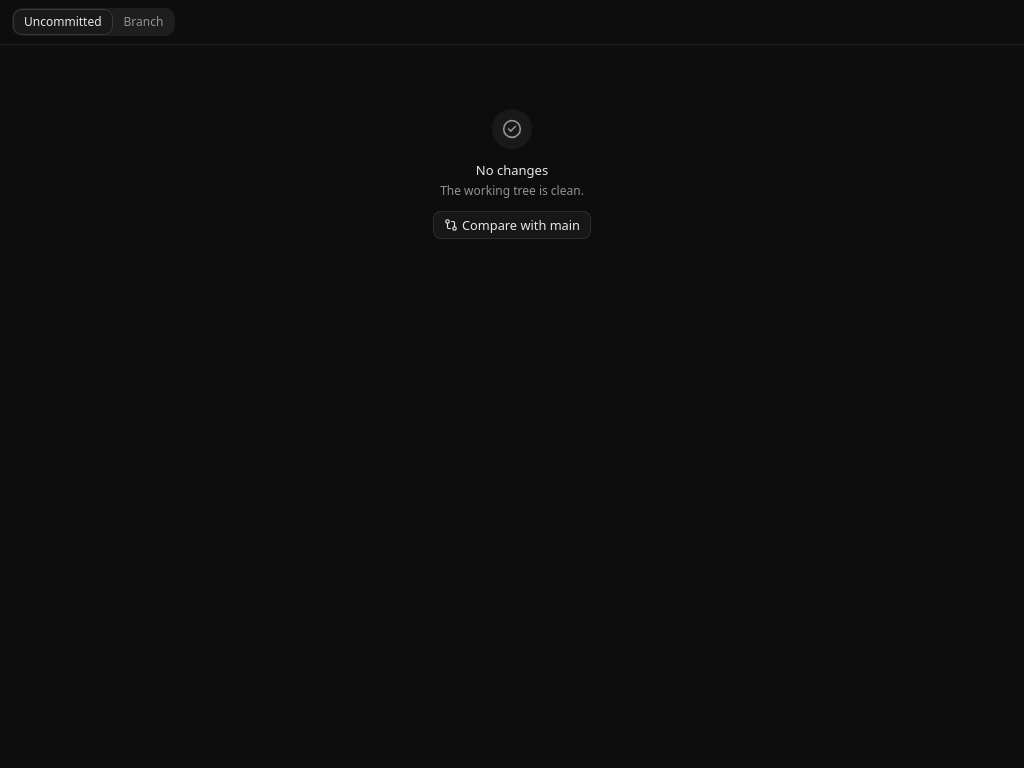
Test: ChangesView › switches modes, defaulting the base to the default branch
Later steps or results of the test are not shown.
Expected: the text "The working tree is clean." is shown, 440,183 -> 584,199
Click the radio button labelled "Branch": click(144, 22) 114,10 -> 173,34
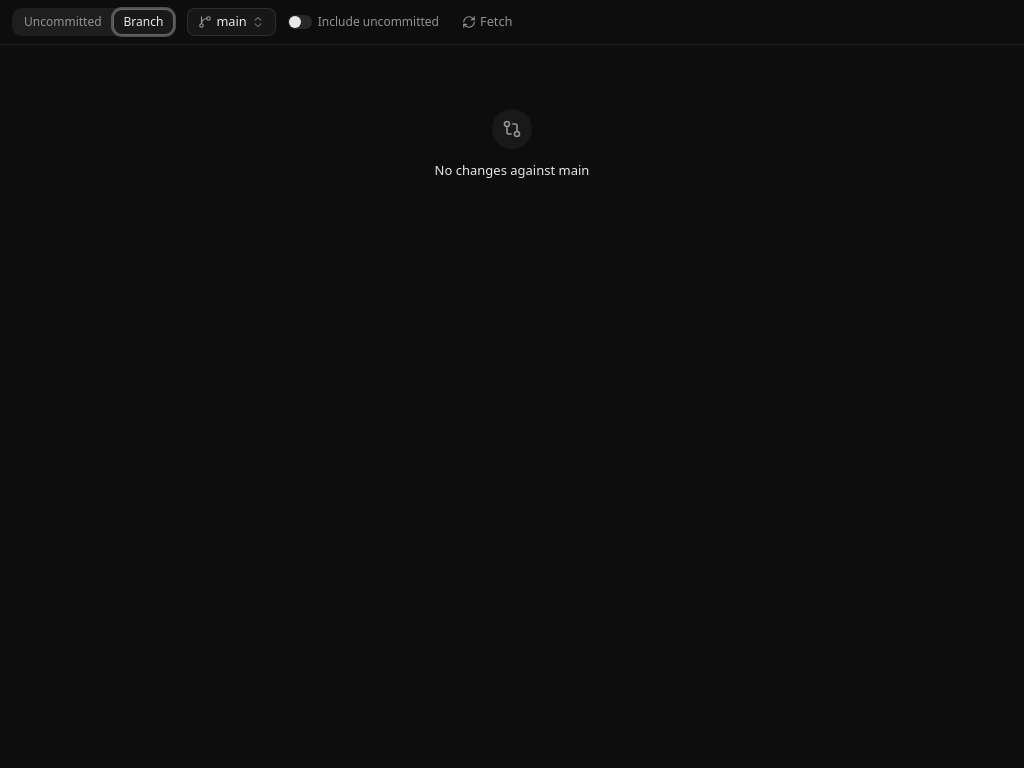
Expected: the text "No changes against main" is shown, 435,161 -> 589,179
Expected: the dropdown named "Base branch" reads "main", 187,8 -> 276,36
Expected: the switch named "Include uncommitted" is not checked
Click the switch named "Include uncommitted": click(300, 22) 288,15 -> 312,29
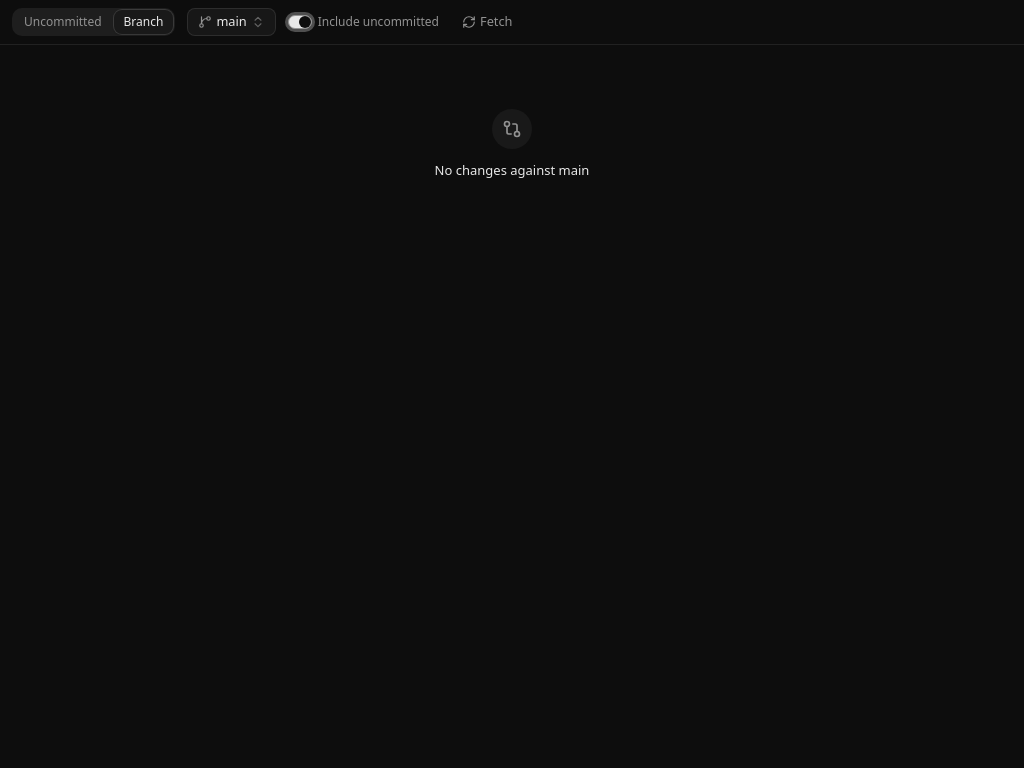
Expected: the switch named "Include uncommitted" is checked, 288,15 -> 312,29
Click the dropdown named "Base branch": click(232, 22) 187,8 -> 276,36
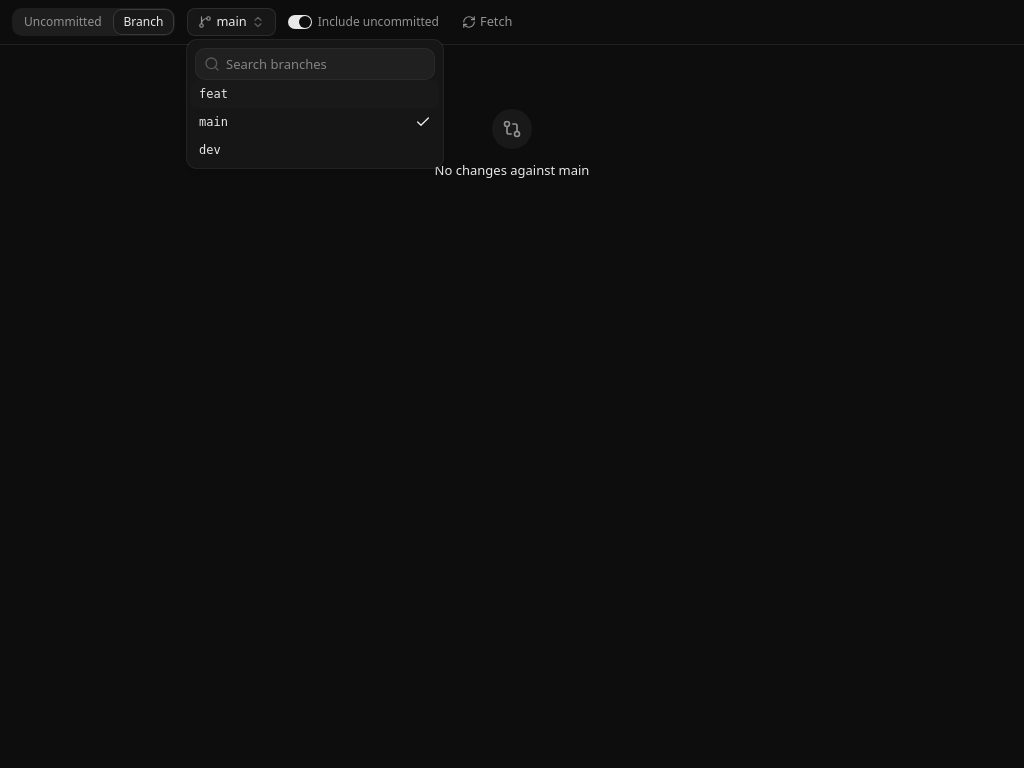
Click the option "dev": click(210, 150) 199,143 -> 221,157
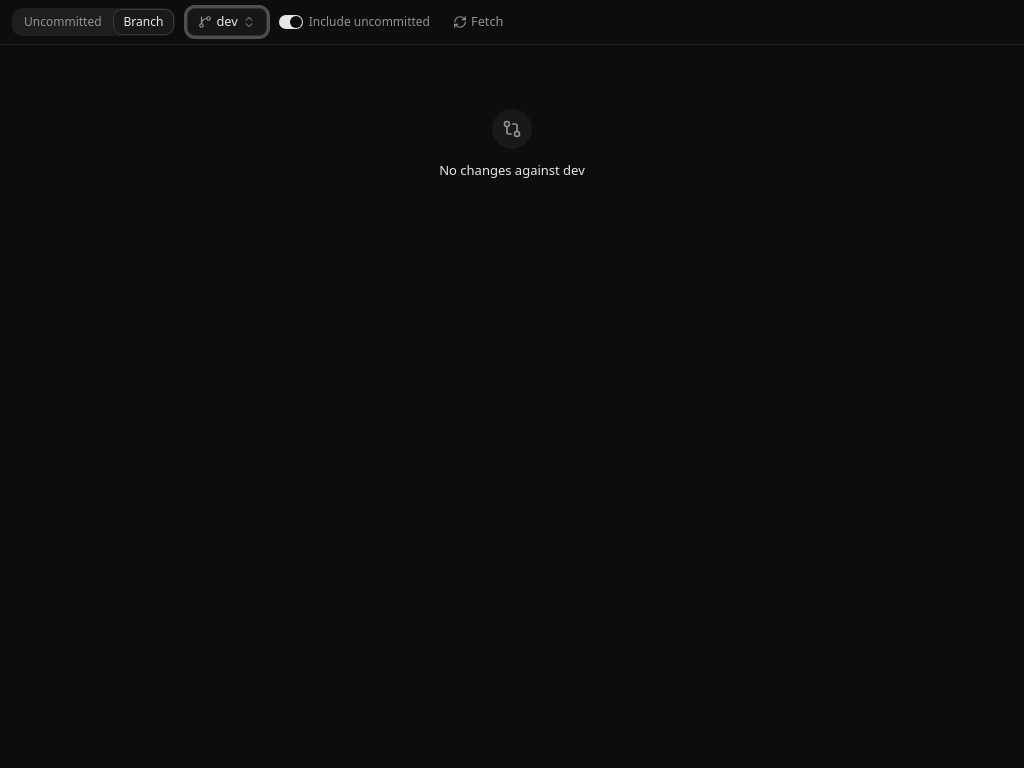
Expected: the text "No changes against dev" is shown, 439,161 -> 585,179
Click the radio button labelled "Uncommitted": click(63, 22) 14,10 -> 112,34
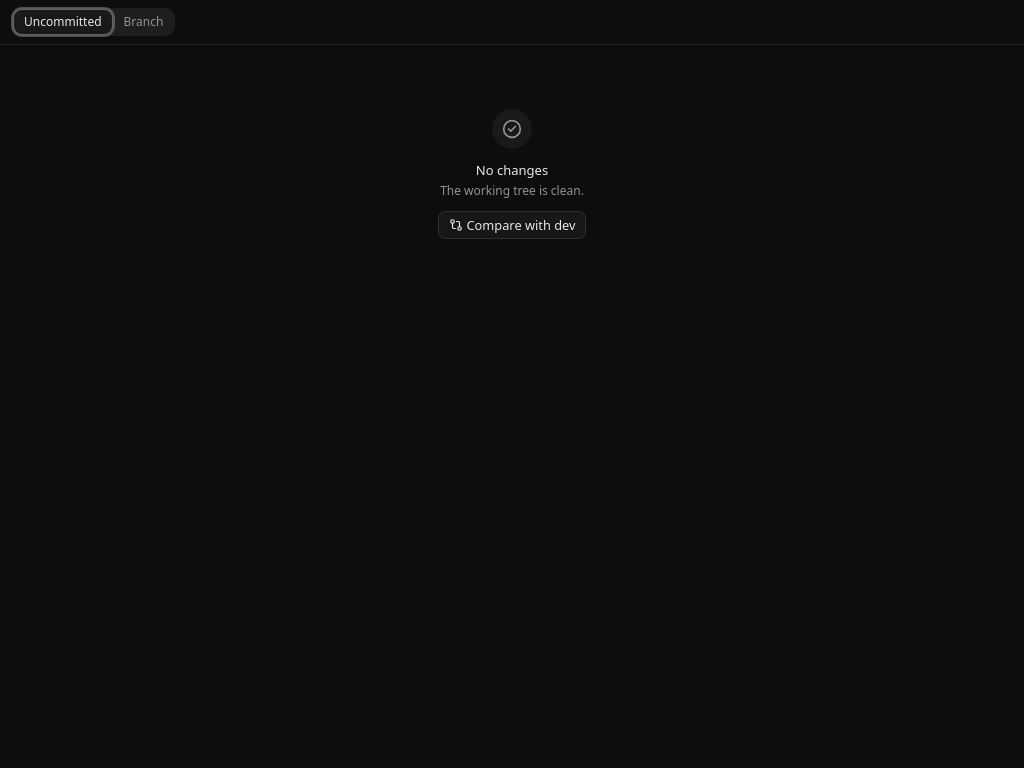
Expected: the dropdown labelled "Base branch" is not shown
Expected: the text "The working tree is clean." is shown, 440,183 -> 584,199
